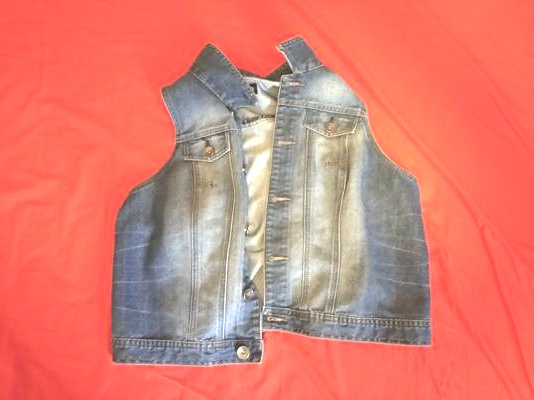Blazer: (85, 24, 447, 369)
